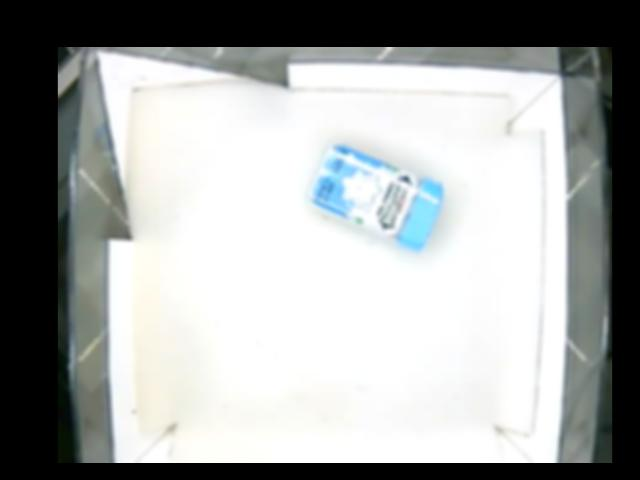Bottle: (307, 144, 444, 251)
